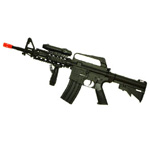rifle: (5, 32, 144, 133)
